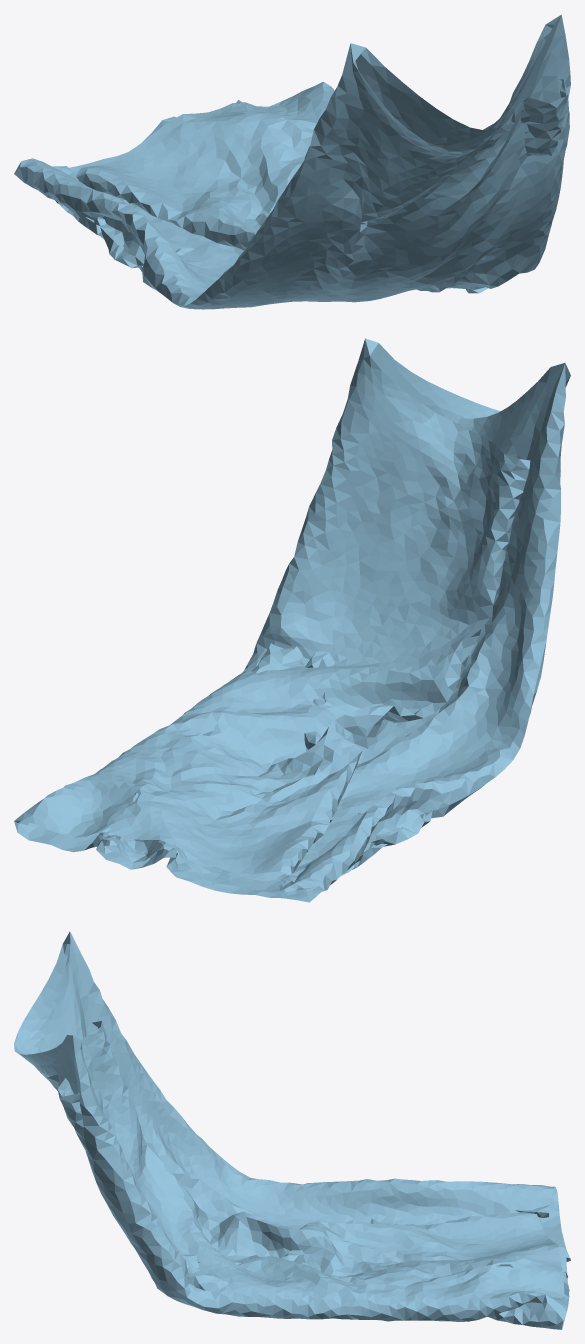
The model's file is frame_06.glb.
3 renders of one model, top to bottom at view 1: azimuth 30°, elevation 25°; view 2: azimuth 150°, elevation 25°; view 3: azimuth 270°, elevation 25°, orthographic. The views are drawn at different scales.
Parts seen in each view (by area): view 1: frame_06.obj; view 2: frame_06.obj; view 3: frame_06.obj.
Part boxes in pixels (bbox=[...]): frame_06.obj: bbox=[14, 14, 570, 309]; frame_06.obj: bbox=[14, 338, 570, 902]; frame_06.obj: bbox=[14, 931, 570, 1329].
Size of the model in its own units: 0.8921 by 0.8982 by 1.54.
